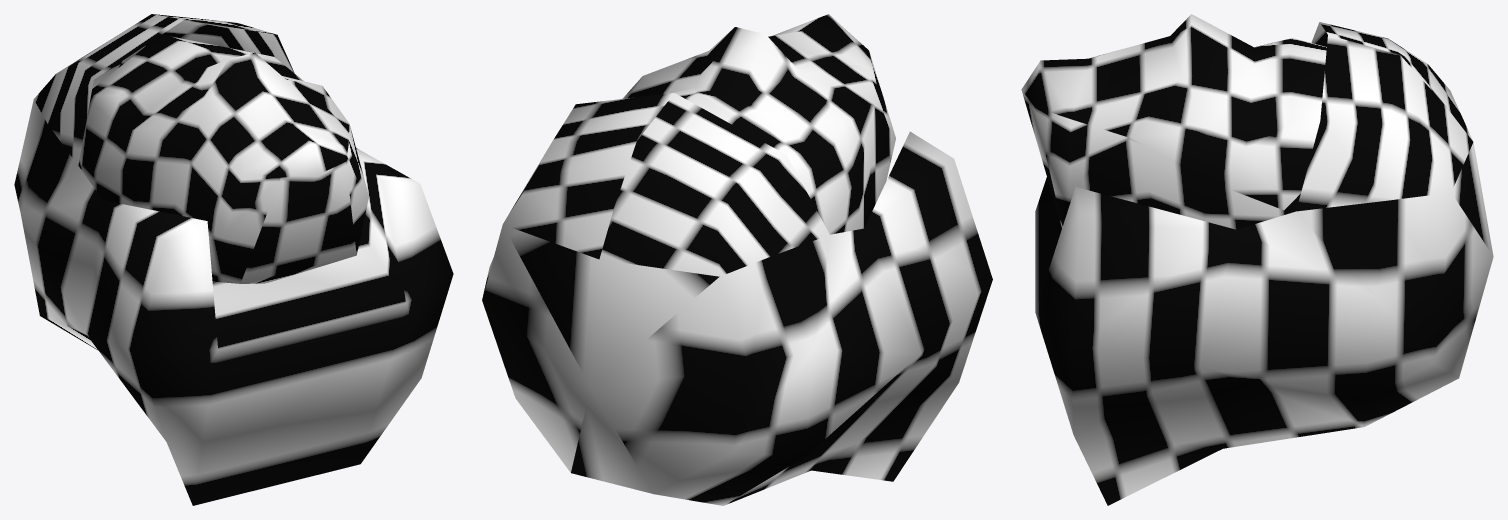
Rendered from infaunhufeme1.dae.
3 views of the same model, side by side, from view 1: azimuth 30°, elevation 25°; view 2: azimuth 150°, elevation 25°; view 3: azimuth 270°, elevation 25° (orthographic). The views are drawn at different scales.
Parts seen in each view (by area): view 1: face; view 2: face; view 3: face.
Part boxes in pixels (x1,y1,x2,y2): face: (14, 14, 453, 505); face: (482, 14, 992, 505); face: (1021, 14, 1493, 505).
Size of the model in its own units: 1.29 by 1.52 by 1.57.
Materials: 1 (1 with a texture image).
